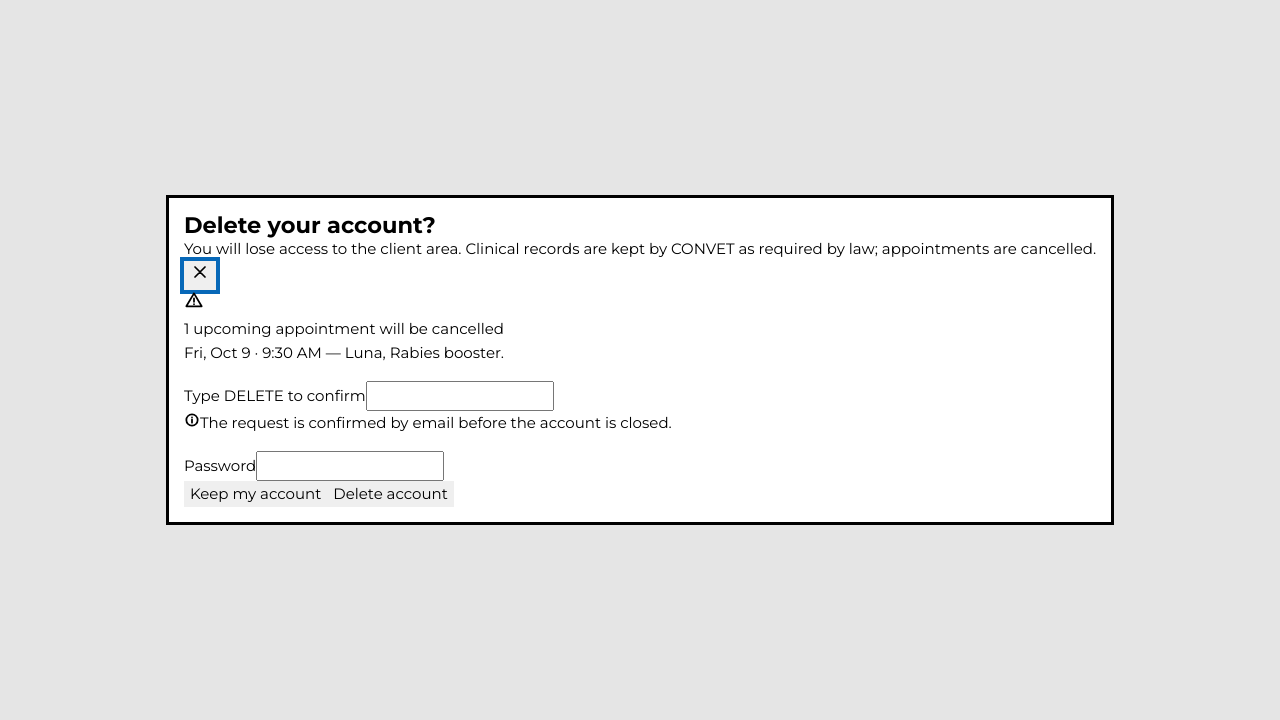
DeleteAccountModal › warns about the appointment and does not delete without the word and the password
Expected: the text "1 upcoming appointment will be cancelled" is shown, 184,319 -> 504,338
In the field labelled "Type DELETE to confirm": (460, 396) 366,381 -> 554,411, type "delete"
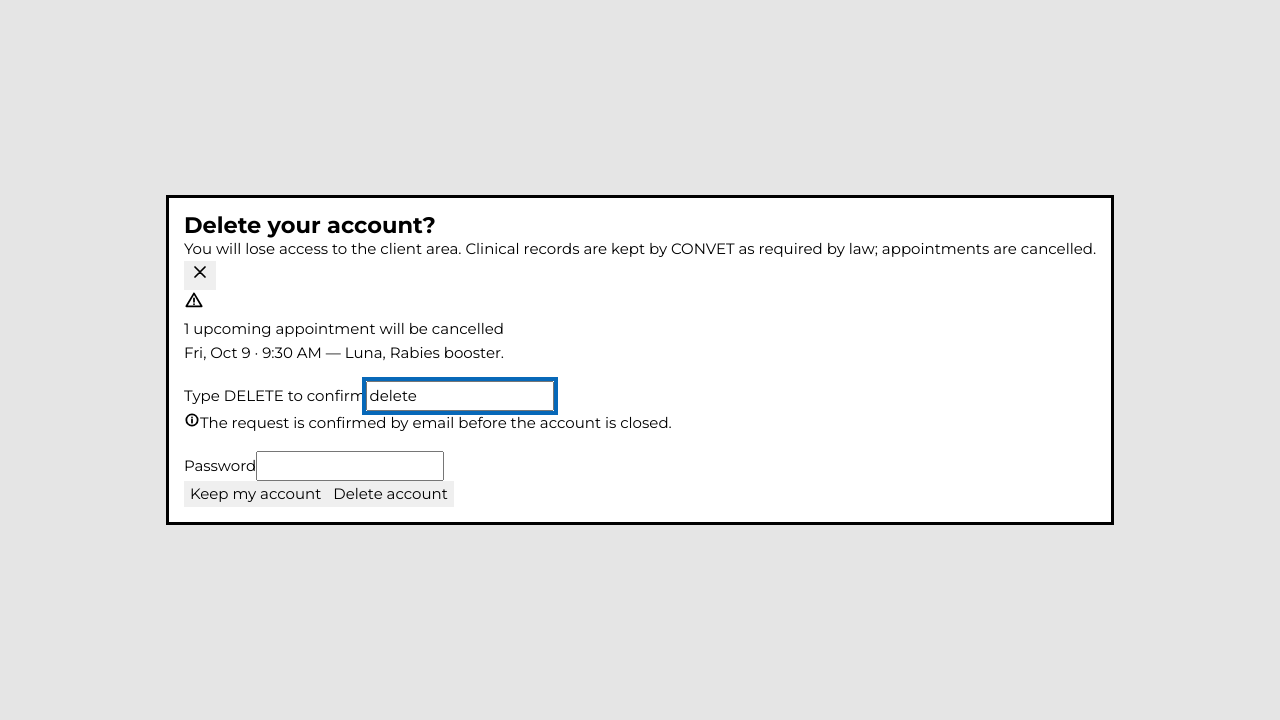
Click the button "Delete account": (391, 494) 327,481 -> 454,507
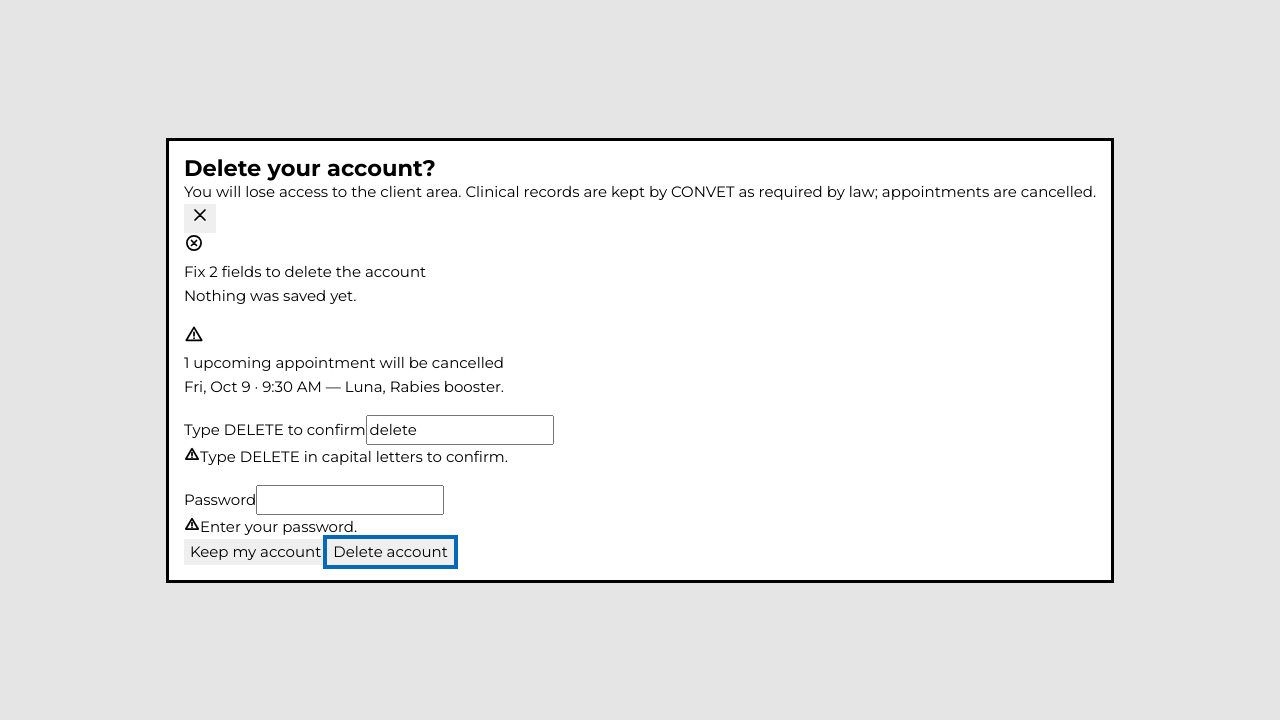
Expected: the text "Fix 2 fields to delete the account" is shown, 184,262 -> 426,280
